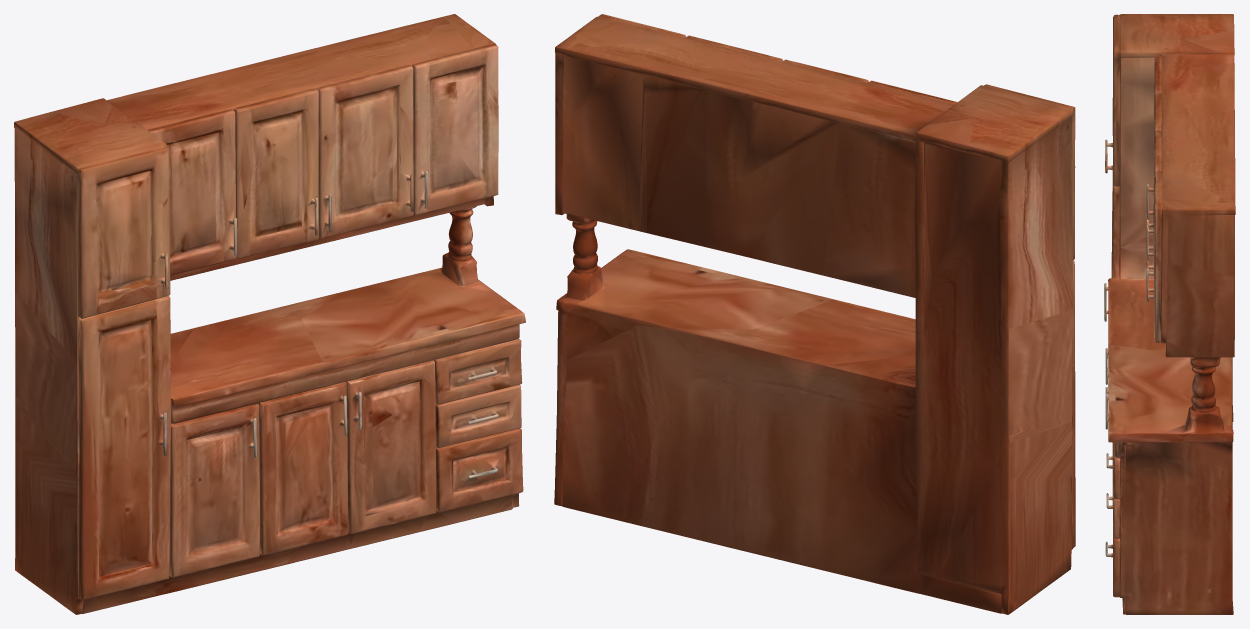
Rendered from card.glb.
The picture shows the model from 3 angles, left to right: view 1: azimuth 30°, elevation 25°; view 2: azimuth 150°, elevation 25°; view 3: azimuth 270°, elevation 25°; orthographic projection. The views are drawn at different scales.
Visible parts, largest first — view 1: model; view 2: model; view 3: model.
Part boxes in pixels (box(x1,y1,x2,y2)): model: box(14, 14, 525, 614); model: box(554, 14, 1075, 614); model: box(1104, 14, 1235, 614).
Size of the model in its own units: 2 by 1.94 by 0.565.
Materials: 1 (1 with a texture image).
